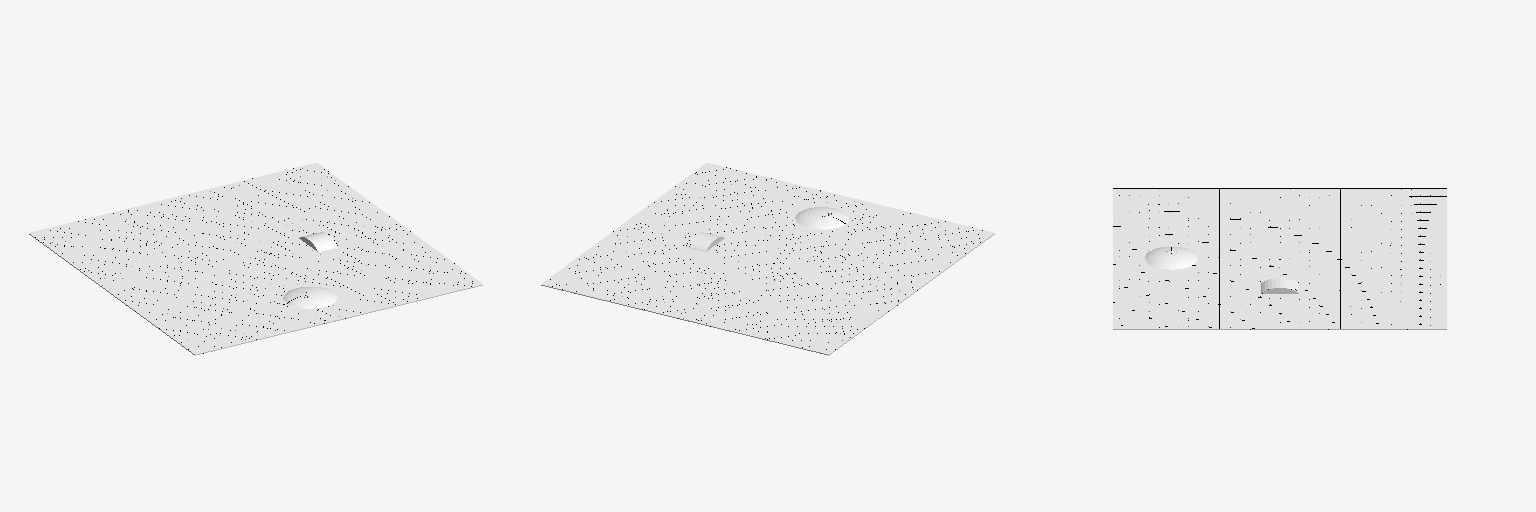
3 renders of one model, left to right at view 1: azimuth 30°, elevation 25°; view 2: azimuth 150°, elevation 25°; view 3: azimuth 270°, elevation 25°, orthographic.
Parts seen in each view (by area): view 1: sol_Cube; view 2: sol_Cube; view 3: sol_Cube.
Boxes of the visible parts, <box> form: sol_Cube: <box>29,163,482,355</box>; sol_Cube: <box>541,163,994,355</box>; sol_Cube: <box>1113,188,1446,329</box>.
Size of the model in its own units: 300 by 7.24 by 300.
Materials: 1 (1 with a texture image).